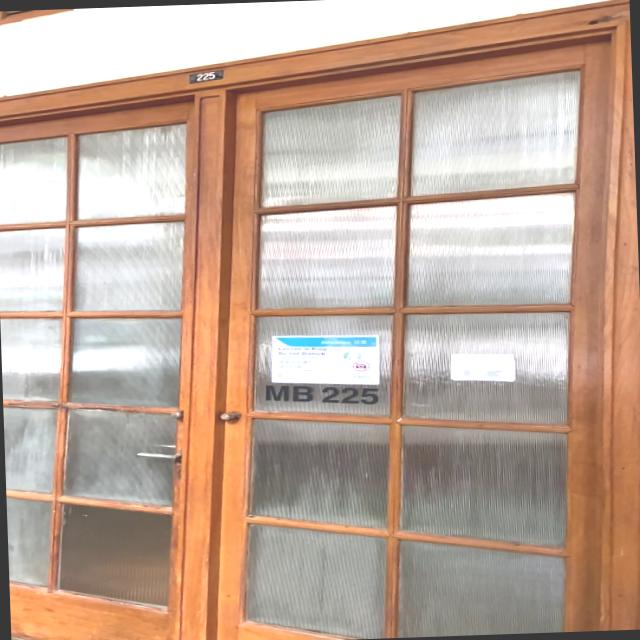room225: (186, 68, 226, 84)
room225Window: (262, 379, 384, 409)
